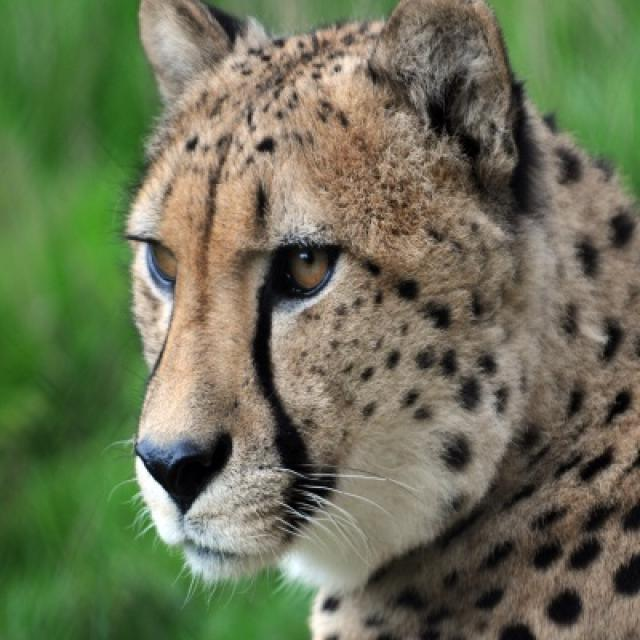Cheetah: (126, 0, 638, 638)
